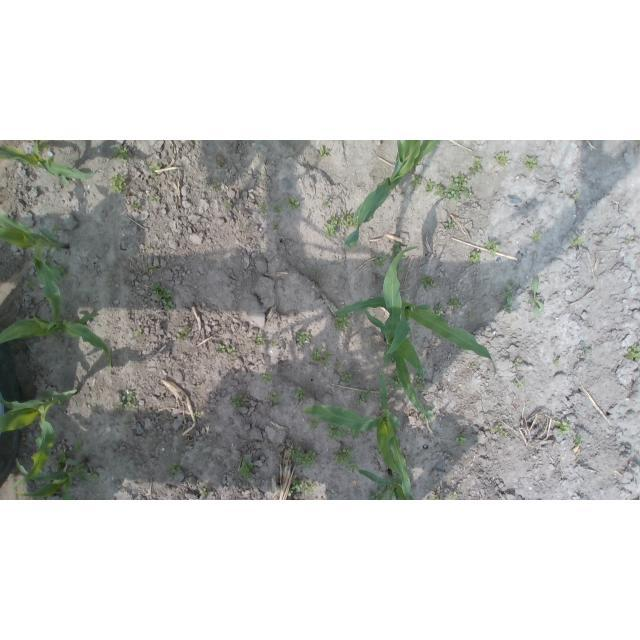Maize: (302, 373, 412, 500), (333, 296, 495, 381), (365, 245, 432, 417), (345, 140, 440, 246), (1, 214, 68, 331), (0, 389, 78, 489), (1, 312, 112, 373), (0, 140, 96, 186), (15, 457, 85, 500), (359, 466, 414, 500)
Weeds: (435, 172, 473, 203), (324, 212, 358, 237), (289, 444, 319, 469), (333, 444, 359, 472), (152, 282, 177, 311), (528, 276, 545, 316), (287, 478, 317, 497), (118, 387, 138, 412), (108, 171, 128, 194), (238, 455, 255, 482), (77, 466, 100, 485), (312, 348, 333, 367), (369, 483, 391, 500), (108, 147, 130, 164), (385, 374, 405, 391), (356, 387, 373, 407), (327, 421, 345, 439), (503, 284, 514, 313), (484, 239, 501, 257), (58, 452, 78, 467), (336, 314, 353, 331), (470, 156, 483, 178), (626, 343, 640, 363), (218, 342, 238, 356), (420, 275, 438, 290), (580, 340, 593, 360), (555, 420, 572, 435), (391, 242, 405, 260), (456, 432, 471, 448), (525, 155, 540, 171), (493, 151, 509, 166), (447, 294, 461, 309), (375, 253, 389, 268), (149, 163, 163, 178), (175, 326, 190, 340), (492, 423, 508, 436), (296, 331, 310, 345), (319, 144, 332, 159), (423, 406, 436, 421), (467, 252, 481, 265), (411, 175, 424, 189), (340, 372, 353, 385), (425, 179, 437, 193), (287, 196, 299, 210), (167, 462, 181, 474), (23, 277, 37, 289), (348, 427, 364, 437), (434, 303, 446, 316), (572, 235, 585, 247), (232, 395, 245, 407), (252, 333, 265, 345), (57, 263, 68, 277), (304, 417, 319, 427), (261, 372, 273, 384), (52, 223, 65, 234), (296, 388, 305, 403), (269, 392, 280, 404), (575, 436, 586, 447), (74, 440, 83, 453), (272, 203, 283, 213), (552, 356, 561, 368), (147, 263, 157, 273), (444, 219, 454, 229), (224, 199, 233, 210), (429, 494, 445, 500), (514, 379, 524, 388), (396, 267, 405, 277), (38, 140, 48, 149), (531, 233, 541, 242), (513, 358, 522, 367), (449, 492, 457, 501), (133, 201, 142, 209), (320, 199, 328, 208), (200, 488, 208, 497), (134, 328, 142, 337), (414, 385, 424, 392), (211, 182, 221, 189), (414, 375, 422, 383), (625, 235, 633, 243), (269, 339, 278, 346), (259, 204, 266, 213), (152, 195, 161, 202), (572, 194, 580, 201), (193, 411, 201, 418), (467, 363, 476, 369), (315, 268, 321, 277), (272, 222, 280, 228), (334, 260, 343, 264), (378, 372, 385, 377), (634, 141, 640, 146), (466, 315, 472, 320), (335, 364, 341, 369), (608, 233, 612, 238), (76, 420, 81, 424)
